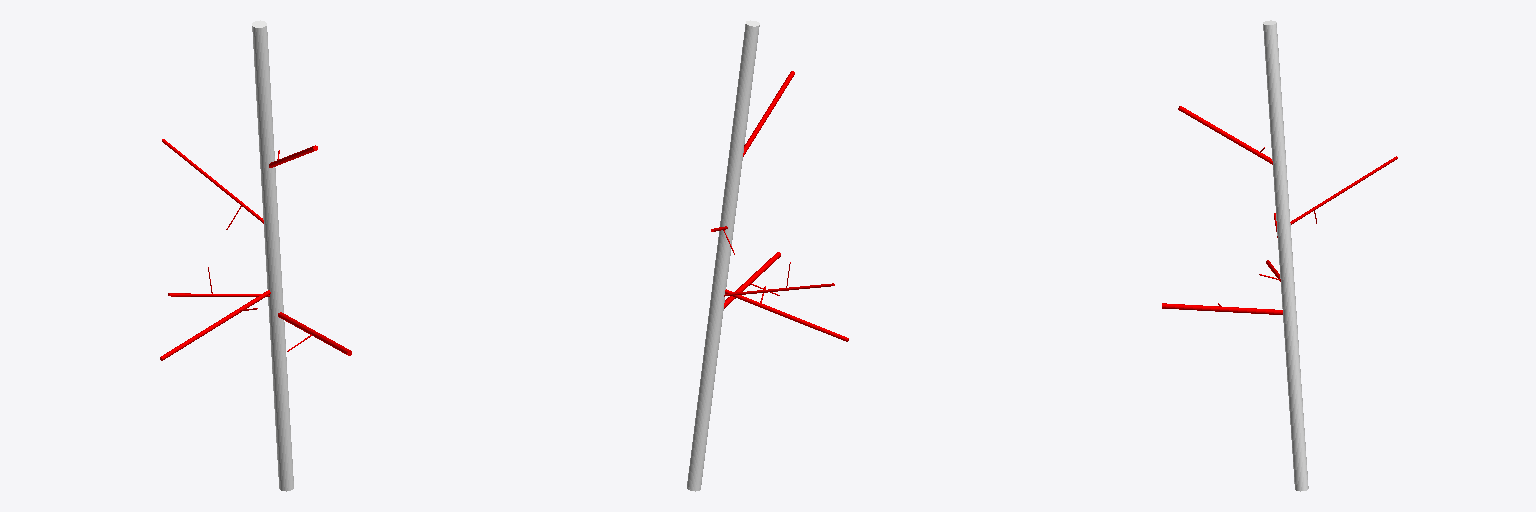
The robot description file, URDF, robot "tree_53.urdf":
<?xml version='1.0' encoding='UTF-8'?>
<robot name="tree_53.urdf">
  <link name="branch_0">
    <inertial>
      <origin xyz="0.0 0.0 0.0" rpy="0.0 -0.0 0.0"/>
      <mass value="0.1"/>
      <inertia ixx="0.001" ixy="0.0" ixz="0.0" iyy="0.001" iyz="0.0" izz="0.001"/>
    </inertial>
    <visual name="branch_0_visual">
      <geometry>
        <cylinder radius="0.14502414990756526" length="10.409707732832217"/>
      </geometry>
      <material name="branch_material"/>
      <origin xyz="-0.4948458930181951 -0.33560540568110353 5.170396534559739" rpy="0.0 0.11513077703258993 -2.5456466044560595"/>
    </visual>
    <collision name="branch_0_collision">
      <geometry>
        <cylinder radius="0.14502414990756526" length="10.409707732832217"/>
      </geometry>
      <origin xyz="-0.4948458930181951 -0.33560540568110353 5.170396534559739" rpy="0.0 0.11513077703258993 -2.5456466044560595"/>
    </collision>
  </link>
  <link name="branch_1">
    <inertial>
      <origin xyz="0.0 0.0 0.0" rpy="0.0 -0.0 0.0"/>
      <mass value="0.1"/>
      <inertia ixx="0.001" ixy="0.0" ixz="0.0" iyy="0.001" iyz="0.0" izz="0.001"/>
    </inertial>
    <visual name="branch_1_visual">
      <geometry>
        <cylinder radius="0.05073990651413821" length="2.4759461793177313"/>
      </geometry>
      <material name="semantic_material"/>
      <origin xyz="0.0 0.0 0.0" rpy="0.0 -0.0 0.0"/>
    </visual>
    <collision name="branch_1_collision">
      <geometry>
        <cylinder radius="0.05073990651413821" length="2.4759461793177313"/>
      </geometry>
      <origin xyz="0.0 0.0 0.0" rpy="0.0 -0.0 0.0"/>
    </collision>
  </link>
  <link name="branch_2">
    <inertial>
      <origin xyz="0.0 0.0 0.0" rpy="0.0 -0.0 0.0"/>
      <mass value="0.1"/>
      <inertia ixx="0.001" ixy="0.0" ixz="0.0" iyy="0.001" iyz="0.0" izz="0.001"/>
    </inertial>
    <visual name="branch_2_visual">
      <geometry>
        <cylinder radius="0.013925155036216243" length="0.252853662579084"/>
      </geometry>
      <material name="semantic_material"/>
      <origin xyz="0.0 0.0 0.0" rpy="0.0 -0.0 0.0"/>
    </visual>
    <collision name="branch_2_collision">
      <geometry>
        <cylinder radius="0.013925155036216243" length="0.252853662579084"/>
      </geometry>
      <origin xyz="0.0 0.0 0.0" rpy="0.0 -0.0 0.0"/>
    </collision>
  </link>
  <link name="branch_3">
    <inertial>
      <origin xyz="0.0 0.0 0.0" rpy="0.0 -0.0 0.0"/>
      <mass value="0.1"/>
      <inertia ixx="0.001" ixy="0.0" ixz="0.0" iyy="0.001" iyz="0.0" izz="0.001"/>
    </inertial>
    <visual name="branch_3_visual">
      <geometry>
        <cylinder radius="0.04410409574866774" length="2.8875354489749054"/>
      </geometry>
      <material name="semantic_material"/>
      <origin xyz="0.0 0.0 0.0" rpy="0.0 -0.0 0.0"/>
    </visual>
    <collision name="branch_3_collision">
      <geometry>
        <cylinder radius="0.04410409574866774" length="2.8875354489749054"/>
      </geometry>
      <origin xyz="0.0 0.0 0.0" rpy="0.0 -0.0 0.0"/>
    </collision>
  </link>
  <link name="branch_4">
    <inertial>
      <origin xyz="0.0 0.0 0.0" rpy="0.0 -0.0 0.0"/>
      <mass value="0.1"/>
      <inertia ixx="0.001" ixy="0.0" ixz="0.0" iyy="0.001" iyz="0.0" izz="0.001"/>
    </inertial>
    <visual name="branch_4_visual">
      <geometry>
        <cylinder radius="0.015014268433779596" length="0.5194308552831846"/>
      </geometry>
      <material name="semantic_material"/>
      <origin xyz="0.0 0.0 0.0" rpy="0.0 -0.0 0.0"/>
    </visual>
    <collision name="branch_4_collision">
      <geometry>
        <cylinder radius="0.015014268433779596" length="0.5194308552831846"/>
      </geometry>
      <origin xyz="0.0 0.0 0.0" rpy="0.0 -0.0 0.0"/>
    </collision>
  </link>
  <link name="branch_5">
    <inertial>
      <origin xyz="0.0 0.0 0.0" rpy="0.0 -0.0 0.0"/>
      <mass value="0.1"/>
      <inertia ixx="0.001" ixy="0.0" ixz="0.0" iyy="0.001" iyz="0.0" izz="0.001"/>
    </inertial>
    <visual name="branch_5_visual">
      <geometry>
        <cylinder radius="0.032967750458470405" length="2.844780668338719"/>
      </geometry>
      <material name="semantic_material"/>
      <origin xyz="0.0 0.0 0.0" rpy="0.0 -0.0 0.0"/>
    </visual>
    <collision name="branch_5_collision">
      <geometry>
        <cylinder radius="0.032967750458470405" length="2.844780668338719"/>
      </geometry>
      <origin xyz="0.0 0.0 0.0" rpy="0.0 -0.0 0.0"/>
    </collision>
  </link>
  <link name="branch_6">
    <inertial>
      <origin xyz="0.0 0.0 0.0" rpy="0.0 -0.0 0.0"/>
      <mass value="0.1"/>
      <inertia ixx="0.001" ixy="0.0" ixz="0.0" iyy="0.001" iyz="0.0" izz="0.001"/>
    </inertial>
    <visual name="branch_6_visual">
      <geometry>
        <cylinder radius="0.011715803326759984" length="0.5892744159155944"/>
      </geometry>
      <material name="semantic_material"/>
      <origin xyz="0.0 0.0 0.0" rpy="0.0 -0.0 0.0"/>
    </visual>
    <collision name="branch_6_collision">
      <geometry>
        <cylinder radius="0.011715803326759984" length="0.5892744159155944"/>
      </geometry>
      <origin xyz="0.0 0.0 0.0" rpy="0.0 -0.0 0.0"/>
    </collision>
  </link>
  <link name="branch_7">
    <inertial>
      <origin xyz="0.0 0.0 0.0" rpy="0.0 -0.0 0.0"/>
      <mass value="0.1"/>
      <inertia ixx="0.001" ixy="0.0" ixz="0.0" iyy="0.001" iyz="0.0" izz="0.001"/>
    </inertial>
    <visual name="branch_7_visual">
      <geometry>
        <cylinder radius="0.05604427336612054" length="2.6938779891023517"/>
      </geometry>
      <material name="semantic_material"/>
      <origin xyz="0.0 0.0 0.0" rpy="0.0 -0.0 0.0"/>
    </visual>
    <collision name="branch_7_collision">
      <geometry>
        <cylinder radius="0.05604427336612054" length="2.6938779891023517"/>
      </geometry>
      <origin xyz="0.0 0.0 0.0" rpy="0.0 -0.0 0.0"/>
    </collision>
  </link>
  <link name="branch_8">
    <inertial>
      <origin xyz="0.0 0.0 0.0" rpy="0.0 -0.0 0.0"/>
      <mass value="0.1"/>
      <inertia ixx="0.001" ixy="0.0" ixz="0.0" iyy="0.001" iyz="0.0" izz="0.001"/>
    </inertial>
    <visual name="branch_8_visual">
      <geometry>
        <cylinder radius="0.014172863181936213" length="0.6907452594955407"/>
      </geometry>
      <material name="semantic_material"/>
      <origin xyz="0.0 0.0 0.0" rpy="0.0 -0.0 0.0"/>
    </visual>
    <collision name="branch_8_collision">
      <geometry>
        <cylinder radius="0.014172863181936213" length="0.6907452594955407"/>
      </geometry>
      <origin xyz="0.0 0.0 0.0" rpy="0.0 -0.0 0.0"/>
    </collision>
  </link>
  <link name="branch_9">
    <inertial>
      <origin xyz="0.0 0.0 0.0" rpy="0.0 -0.0 0.0"/>
      <mass value="0.1"/>
      <inertia ixx="0.001" ixy="0.0" ixz="0.0" iyy="0.001" iyz="0.0" izz="0.001"/>
    </inertial>
    <visual name="branch_9_visual">
      <geometry>
        <cylinder radius="0.029965757535539497" length="2.655237796151807"/>
      </geometry>
      <material name="semantic_material"/>
      <origin xyz="0.0 0.0 0.0" rpy="0.0 -0.0 0.0"/>
    </visual>
    <collision name="branch_9_collision">
      <geometry>
        <cylinder radius="0.029965757535539497" length="2.655237796151807"/>
      </geometry>
      <origin xyz="0.0 0.0 0.0" rpy="0.0 -0.0 0.0"/>
    </collision>
  </link>
  <link name="branch_10">
    <inertial>
      <origin xyz="0.0 0.0 0.0" rpy="0.0 -0.0 0.0"/>
      <mass value="0.1"/>
      <inertia ixx="0.001" ixy="0.0" ixz="0.0" iyy="0.001" iyz="0.0" izz="0.001"/>
    </inertial>
    <visual name="branch_10_visual">
      <geometry>
        <cylinder radius="0.01" length="0.6244491290317271"/>
      </geometry>
      <material name="semantic_material"/>
      <origin xyz="0.0 0.0 0.0" rpy="0.0 -0.0 0.0"/>
    </visual>
    <collision name="branch_10_collision">
      <geometry>
        <cylinder radius="0.01" length="0.6244491290317271"/>
      </geometry>
      <origin xyz="0.0 0.0 0.0" rpy="0.0 -0.0 0.0"/>
    </collision>
  </link>
  <joint name="joint_0_1" type="fixed">
    <parent link="branch_0"/>
    <child link="branch_1"/>
    <axis xyz="1. 0. 0."/>
    <origin xyz="-0.7619518078281549 -1.5204819510604746 7.806376555251126" rpy="0.17980332410529024 1.0152078255281776 -1.4322000069529326"/>
  </joint>
  <joint name="joint_0_3" type="fixed">
    <parent link="branch_0"/>
    <child link="branch_3"/>
    <axis xyz="1. 0. 0."/>
    <origin xyz="-1.8126022880544037 -0.5012246848491472 4.104365079538753" rpy="-2.9377586080166513 1.3295313477590927 0.3619894557838371"/>
  </joint>
  <joint name="joint_0_5" type="fixed">
    <parent link="branch_0"/>
    <child link="branch_5"/>
    <axis xyz="1. 0. 0."/>
    <origin xyz="-1.0760333779159117 0.816723322506219 6.3714195670133495" rpy="-0.27075331800773744 1.13956933638973 1.686032847083857"/>
  </joint>
  <joint name="joint_0_7" type="fixed">
    <parent link="branch_0"/>
    <child link="branch_7"/>
    <axis xyz="1. 0. 0."/>
    <origin xyz="-0.3334507870921157 -1.5961116881054602 4.007589465774094" rpy="0.9157432976548425 1.4474030036843144 -0.6212566788446845"/>
  </joint>
  <joint name="joint_0_9" type="fixed">
    <parent link="branch_0"/>
    <child link="branch_9"/>
    <axis xyz="1. 0. 0."/>
    <origin xyz="-1.6802262874650715 -0.42117906183801235 4.648144817119501" rpy="-0.20114140836980496 1.2902891833424786 3.0445248522963446"/>
  </joint>
  <joint name="joint_1_2" type="fixed">
    <parent link="branch_0"/>
    <child link="branch_2"/>
    <axis xyz="1. 0. 0."/>
    <origin xyz="-0.6644037282940373 -0.8382260597012284 7.525606917613864" rpy="0.4020955283675532 0.5883390648992571 1.5198234318408241"/>
  </joint>
  <joint name="joint_3_4" type="fixed">
    <parent link="branch_0"/>
    <child link="branch_4"/>
    <axis xyz="1. 0. 0."/>
    <origin xyz="-1.2358558308076388 -0.6529157202819931 4.327494615286759" rpy="1.171927090811856 -0.15495092778791492 0.35957691704640277"/>
  </joint>
  <joint name="joint_5_6" type="fixed">
    <parent link="branch_0"/>
    <child link="branch_6"/>
    <axis xyz="1. 0. 0."/>
    <origin xyz="-0.9895210353705785 0.28960579444449874 5.856338053364158" rpy="2.6883416044024693 0.35975258039287394 -1.1298166035565413"/>
  </joint>
  <joint name="joint_7_8" type="fixed">
    <parent link="branch_0"/>
    <child link="branch_8"/>
    <axis xyz="1. 0. 0."/>
    <origin xyz="-0.6604462378083913 -1.6912174251999452 3.9190646845838497" rpy="-1.840163235123078 0.10666177902815134 1.7135083254386811"/>
  </joint>
  <joint name="joint_9_10" type="fixed">
    <parent link="branch_0"/>
    <child link="branch_10"/>
    <axis xyz="1. 0. 0."/>
    <origin xyz="-1.9528823258576398 -0.44478722188494474 5.021826429152001" rpy="-0.02390341836376727 -0.14159133992773235 0.12206737351138924"/>
  </joint>
  <material name="branch_material">
    <color rgba="1. 1. 1. 1."/>
  </material>
  <material name="semantic_material">
    <color rgba="1. 0. 0. 1."/>
  </material>
</robot>

--- What the picture shows (computed from the rendered views, not written in the file) ---
Views: 3 orthographic renders of the robot side by side, from view 1: azimuth 30°, elevation 25°; view 2: azimuth 150°, elevation 25°; view 3: azimuth 270°, elevation 25°.
Model tree_53.urdf with 11 links and 10 joints (10 fixed), rooted at branch_0, posed every joint at zero.
Visible links, largest first — view 1: branch_0, branch_3; view 2: branch_0, branch_3; view 3: branch_0, branch_7.
Boxes of the visible links, x1,y1,x2,y2 form: branch_0: (252, 20, 293, 491); branch_3: (160, 290, 270, 360); branch_0: (687, 20, 759, 491); branch_3: (725, 289, 848, 341); branch_0: (1263, 20, 1308, 491); branch_7: (1162, 303, 1282, 314).
Size in the robot's own frame: 3.36 by 4.97 by 10.37 metres.
Geometry: primitives only (box / cylinder / sphere), no mesh files.
